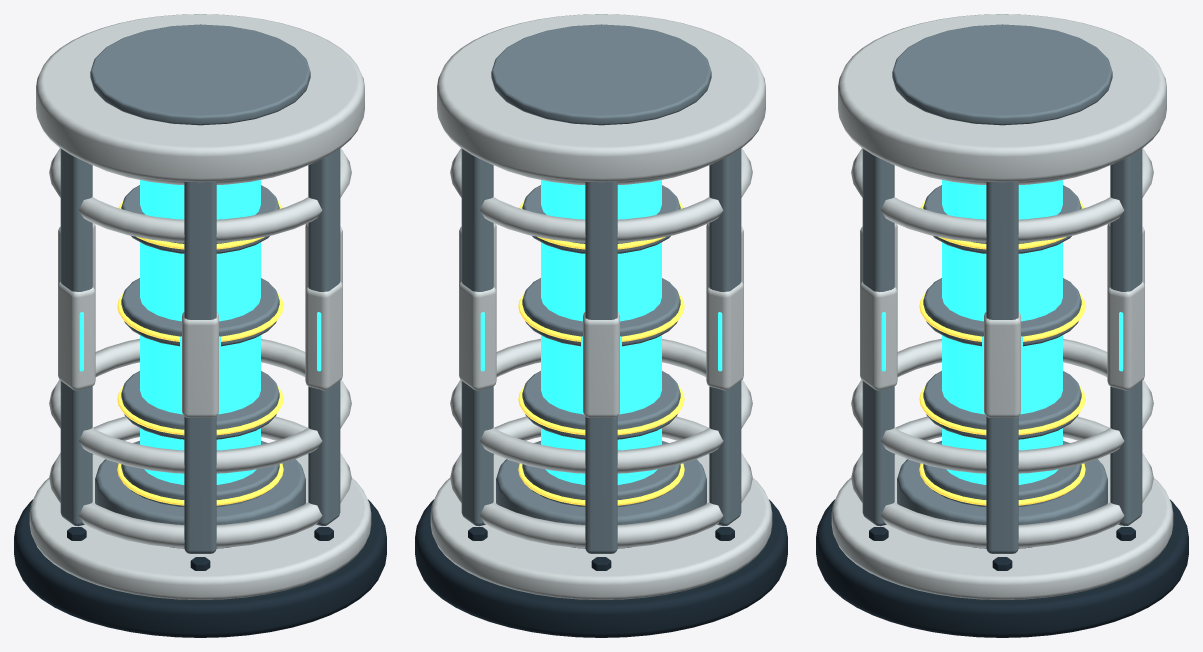
The model's file is Reactor.fbx.
3 views of the same model, side by side, from view 1: azimuth 30°, elevation 25°; view 2: azimuth 150°, elevation 25°; view 3: azimuth 270°, elevation 25° (orthographic).
Visible parts, largest first — view 1: Crown, Lower ceramic plinth, Crown service cap, Energy column, Foundation, Outer vertical support.004, Outer vertical support.003, Outer vertical support.005, Cooling toroid.001, Cooling toroid, Cooling toroid.002, Core base (+12 smaller); view 2: Crown, Lower ceramic plinth, Crown service cap, Energy column, Foundation, Outer vertical support.002, Outer vertical support.001, Outer vertical support.003, Cooling toroid.001, Cooling toroid, Cooling toroid.002, Core base (+12 smaller); view 3: Crown, Lower ceramic plinth, Crown service cap, Energy column, Foundation, Outer vertical support, Outer vertical support.001, Outer vertical support.005, Cooling toroid.001, Cooling toroid, Cooling toroid.002, Core base (+12 smaller).
Boxes of the visible parts, left/top/right/bottom form: Crown: left=36, top=14, right=364, bottom=182; Lower ceramic plinth: left=29, top=454, right=371, bottom=599; Crown service cap: left=90, top=24, right=310, bottom=125; Energy column: left=140, top=180, right=260, bottom=484; Foundation: left=14, top=499, right=386, bottom=637; Outer vertical support.004: left=184, top=181, right=216, bottom=553; Outer vertical support.003: left=60, top=149, right=92, bottom=526; Outer vertical support.005: left=308, top=149, right=340, bottom=526; Cooling toroid.001: left=49, top=338, right=351, bottom=473; Cooling toroid: left=49, top=416, right=351, bottom=548; Cooling toroid.002: left=49, top=148, right=351, bottom=242; Core base: left=95, top=441, right=305, bottom=548; Crown: left=437, top=14, right=765, bottom=182; Lower ceramic plinth: left=430, top=454, right=772, bottom=599; Crown service cap: left=491, top=24, right=711, bottom=125; Energy column: left=541, top=180, right=661, bottom=484; Foundation: left=415, top=499, right=787, bottom=637; Outer vertical support.002: left=585, top=182, right=617, bottom=553; Outer vertical support.001: left=461, top=149, right=493, bottom=526; Outer vertical support.003: left=709, top=149, right=741, bottom=526; Cooling toroid.001: left=450, top=338, right=752, bottom=473; Cooling toroid: left=450, top=416, right=752, bottom=548; Cooling toroid.002: left=450, top=148, right=752, bottom=242; Core base: left=496, top=441, right=706, bottom=548; Crown: left=838, top=14, right=1166, bottom=182; Lower ceramic plinth: left=831, top=454, right=1173, bottom=599; Crown service cap: left=892, top=24, right=1112, bottom=125; Energy column: left=942, top=180, right=1062, bottom=484; Foundation: left=816, top=499, right=1188, bottom=637; Outer vertical support: left=986, top=181, right=1018, bottom=553; Outer vertical support.001: left=1110, top=149, right=1142, bottom=526; Outer vertical support.005: left=862, top=149, right=894, bottom=526; Cooling toroid.001: left=851, top=338, right=1153, bottom=473; Cooling toroid: left=851, top=416, right=1153, bottom=548; Cooling toroid.002: left=851, top=148, right=1153, bottom=242; Core base: left=897, top=441, right=1107, bottom=548.
Size of the model in its own units: 2.4 by 3.5 by 2.4.
